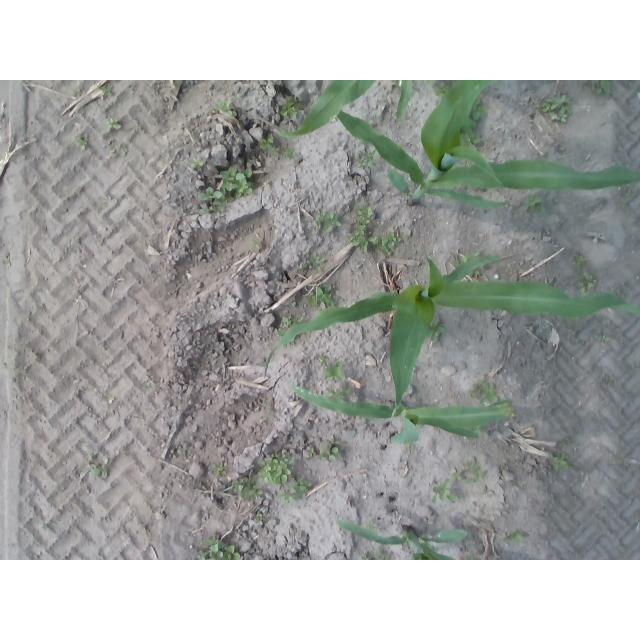Maize: (265, 254, 640, 427), (337, 81, 640, 212), (285, 379, 515, 446), (336, 518, 469, 560), (275, 80, 374, 136), (396, 81, 413, 120)
Weeds: (347, 205, 402, 259), (257, 452, 295, 485), (542, 94, 580, 127), (196, 536, 243, 561), (276, 475, 312, 507), (220, 166, 253, 198), (450, 458, 487, 486), (231, 470, 262, 502), (86, 443, 111, 480), (197, 186, 226, 214), (306, 284, 338, 309), (431, 478, 458, 506), (315, 210, 342, 235), (470, 382, 502, 403), (281, 96, 306, 121), (353, 148, 379, 171), (324, 360, 348, 384), (464, 119, 485, 145), (503, 526, 530, 546), (575, 271, 598, 294), (298, 252, 323, 273), (261, 396, 279, 425), (103, 139, 130, 157), (320, 437, 340, 461), (523, 195, 547, 215), (583, 81, 614, 96), (100, 117, 124, 136), (213, 99, 237, 118), (322, 386, 353, 400), (430, 317, 446, 343), (257, 134, 276, 153), (473, 100, 490, 120), (140, 371, 156, 392), (549, 454, 571, 469), (187, 156, 206, 173), (280, 144, 296, 163), (0, 253, 20, 267), (100, 86, 116, 103), (77, 132, 92, 150), (363, 550, 390, 560), (210, 461, 227, 476), (574, 252, 588, 268), (450, 254, 466, 266), (434, 82, 450, 94), (100, 192, 112, 208), (252, 235, 265, 249), (306, 445, 318, 460), (626, 188, 639, 201), (597, 336, 615, 345), (318, 354, 330, 367), (103, 394, 117, 404), (254, 513, 262, 530), (280, 317, 293, 327), (474, 271, 484, 282), (369, 522, 381, 531), (618, 198, 626, 211), (559, 440, 570, 448), (471, 250, 482, 257), (425, 80, 439, 85)
